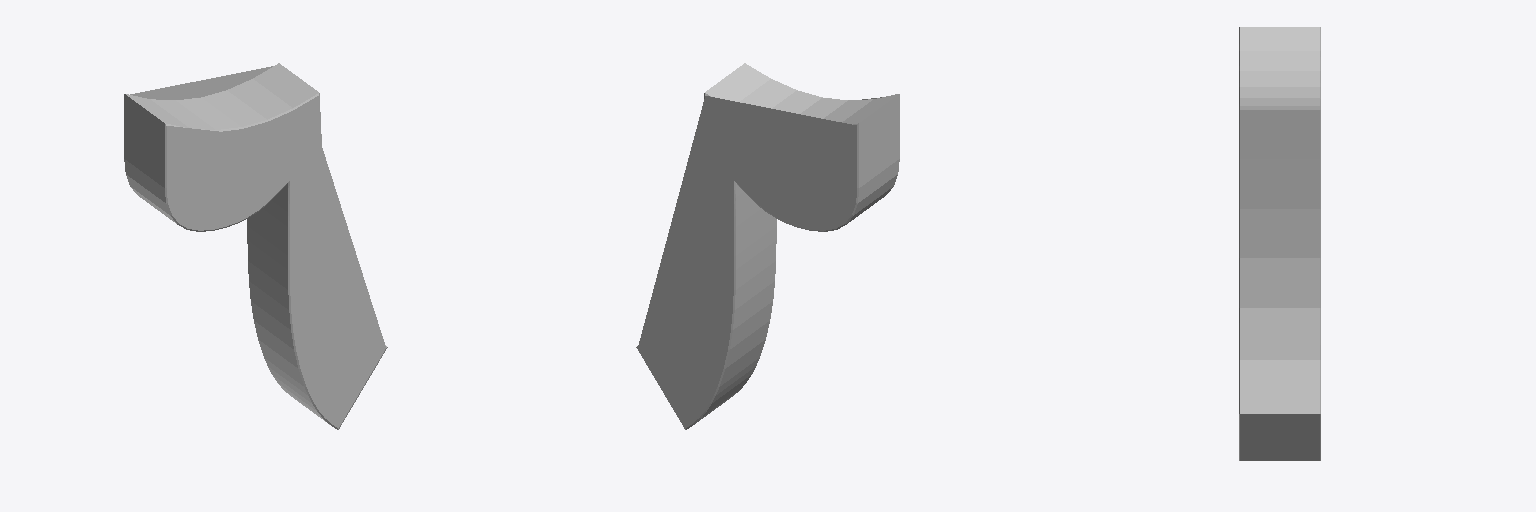
3 views of the same model, side by side, from view 1: azimuth 30°, elevation 25°; view 2: azimuth 150°, elevation 25°; view 3: azimuth 270°, elevation 25° (orthographic).
Parts seen in each view (by area): view 1: 6_Mesh.007; view 2: 6_Mesh.007; view 3: 6_Mesh.007.
Boxes of the visible parts, x1,y1,x2,y2 form: 6_Mesh.007: [124, 63, 387, 429]; 6_Mesh.007: [636, 63, 899, 429]; 6_Mesh.007: [1239, 27, 1320, 460].
Bounding box in the file's own units: 2.24 × 3.35 × 0.7176.